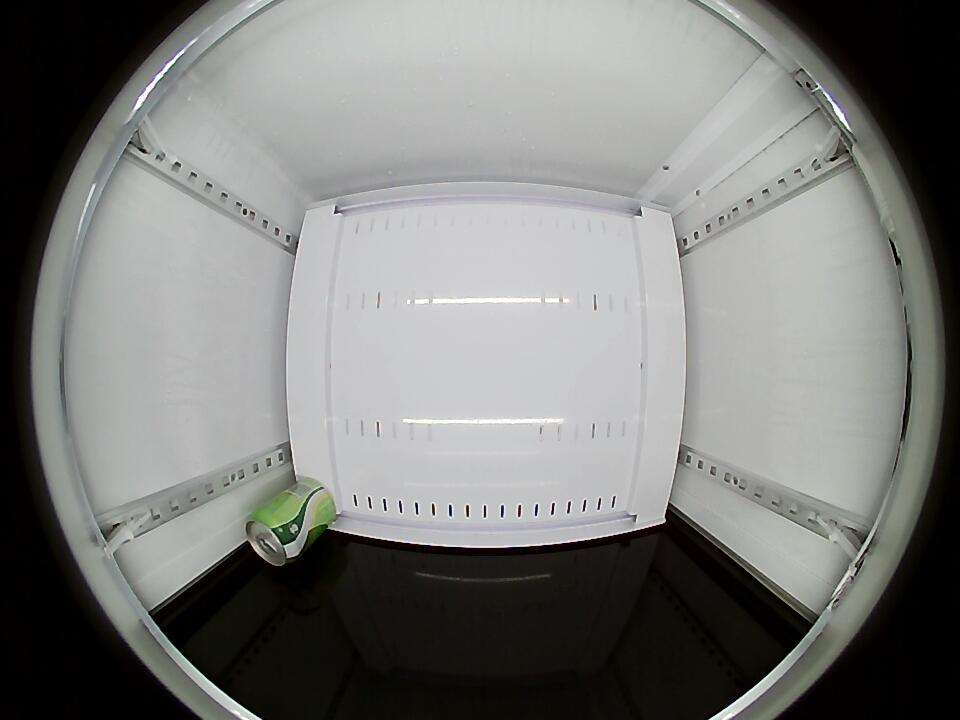quchenshixiangcao: (244, 507, 301, 566)
